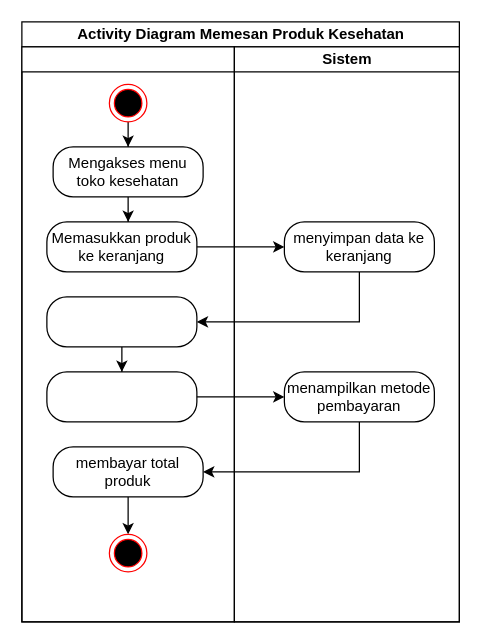
Some shapes in this 481 by 644 pixel diagram are drawn without their labels. Here are the shapes that lost their labels. From the top down, the box of each, then its label:
(46, 296, 197, 347): melakukan checkout
(21, 46, 234, 622): Member
(46, 371, 197, 422): memasukkan alamat
